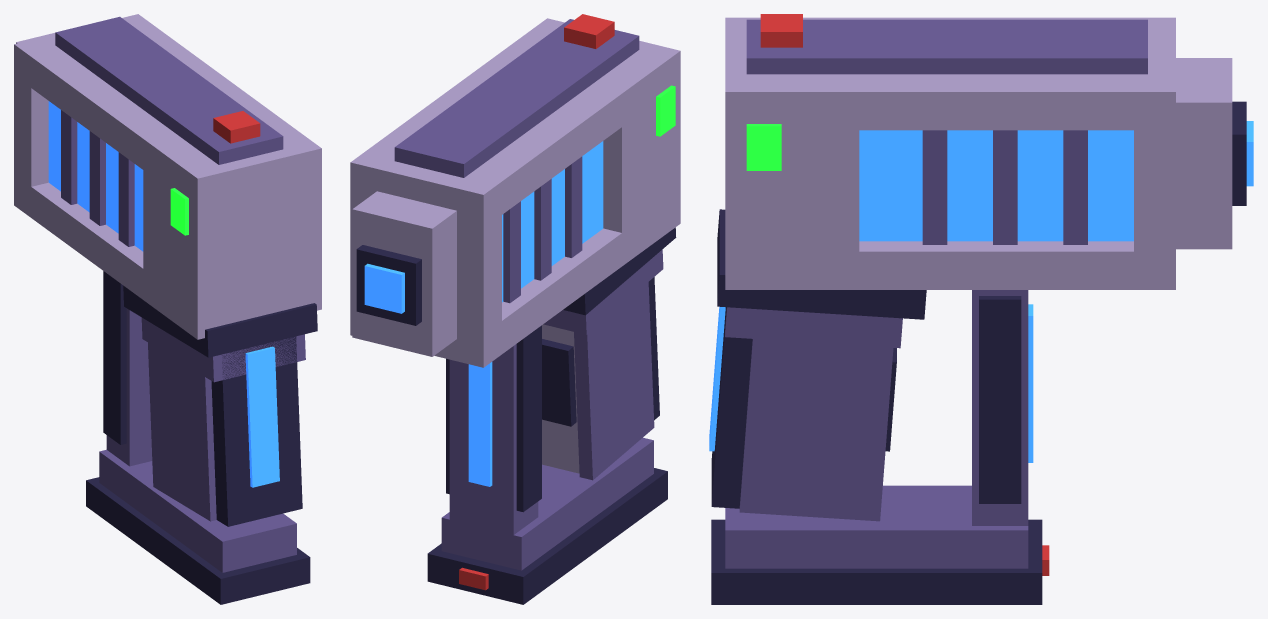
The model's file is sample_scanner.lod1.glb.
3 renders of one model, left to right at view 1: azimuth 30°, elevation 25°; view 2: azimuth 150°, elevation 25°; view 3: azimuth 270°, elevation 25°, orthographic. The views are drawn at different scales.
Visible parts, largest first — view 1: item.sample_scanner.body; view 2: item.sample_scanner.body; view 3: item.sample_scanner.body.
Part boxes in pixels (bbox=[...]): item.sample_scanner.body: bbox=[14, 14, 321, 604]; item.sample_scanner.body: bbox=[350, 14, 680, 604]; item.sample_scanner.body: bbox=[709, 14, 1253, 604].
Bounding box in the file's own units: 0.1663 × 0.5438 × 0.4829.
